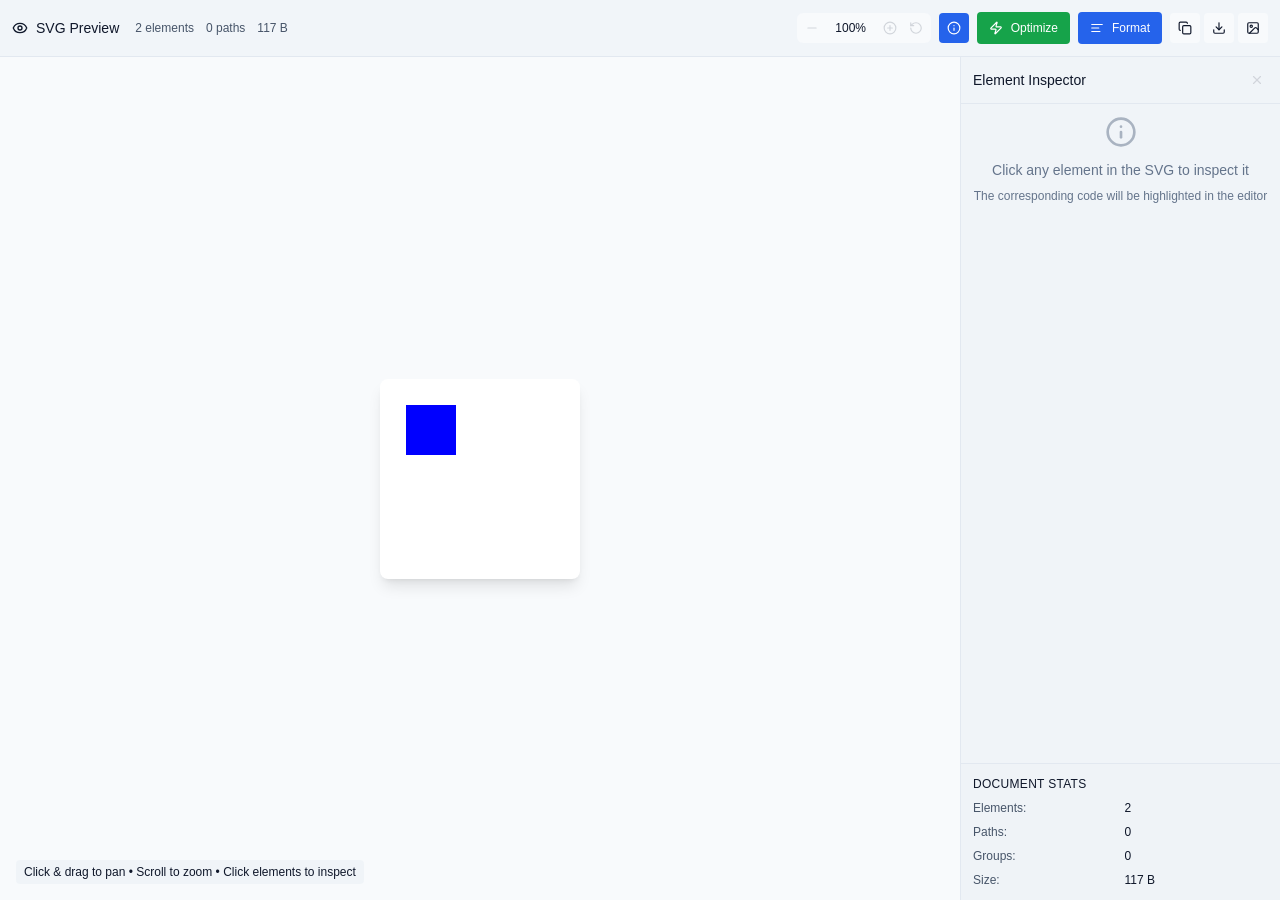
it: SvgViewer › element inspection › should handle SVG element clicks
The image size is (1280, 900).
# Simulate click event
Click the element with test id "svg-container" at (480, 478), box top-left (380, 378), bottom-right (580, 578)
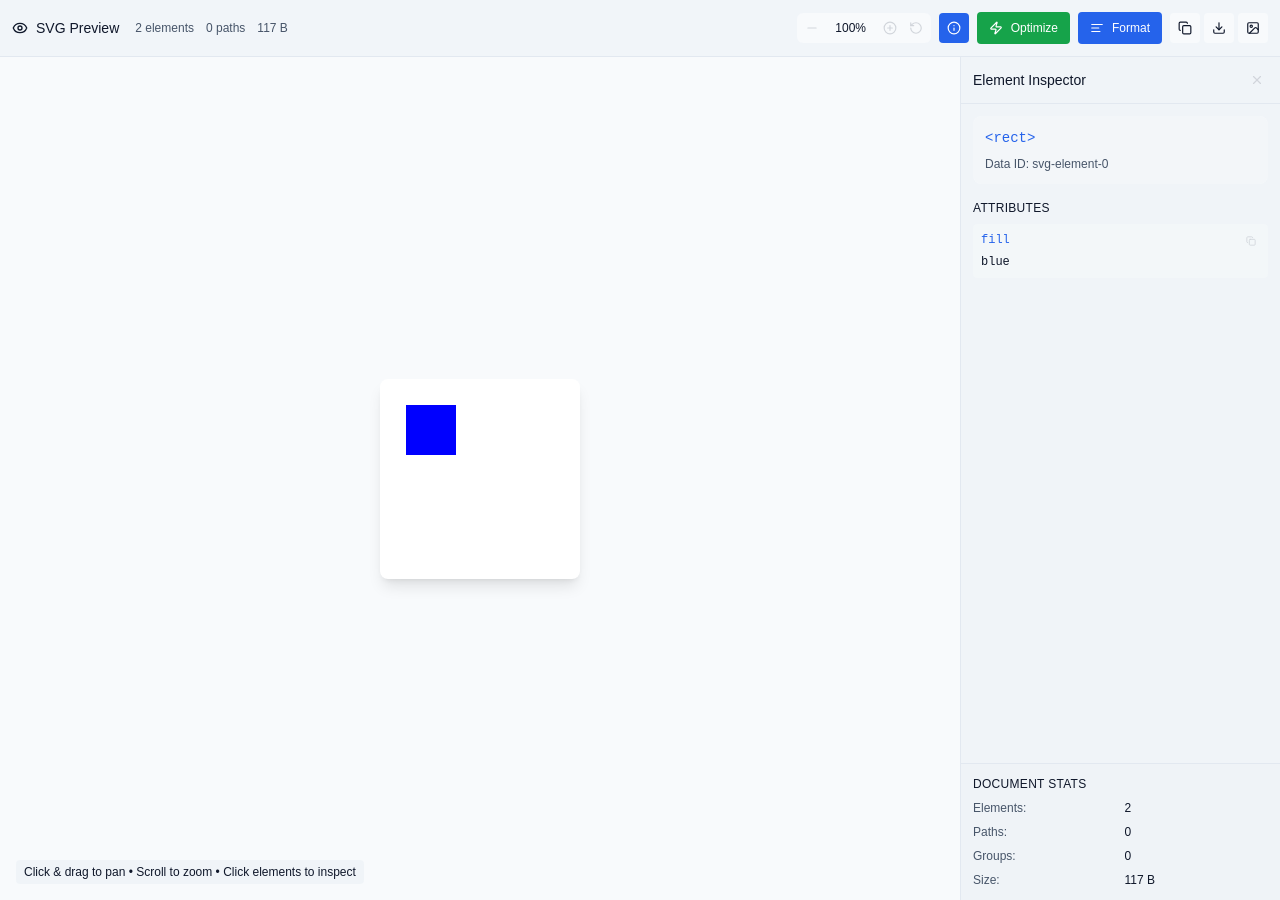
expect the text "<rect>" is shown: met, box top-left (985, 128), bottom-right (1035, 148)
